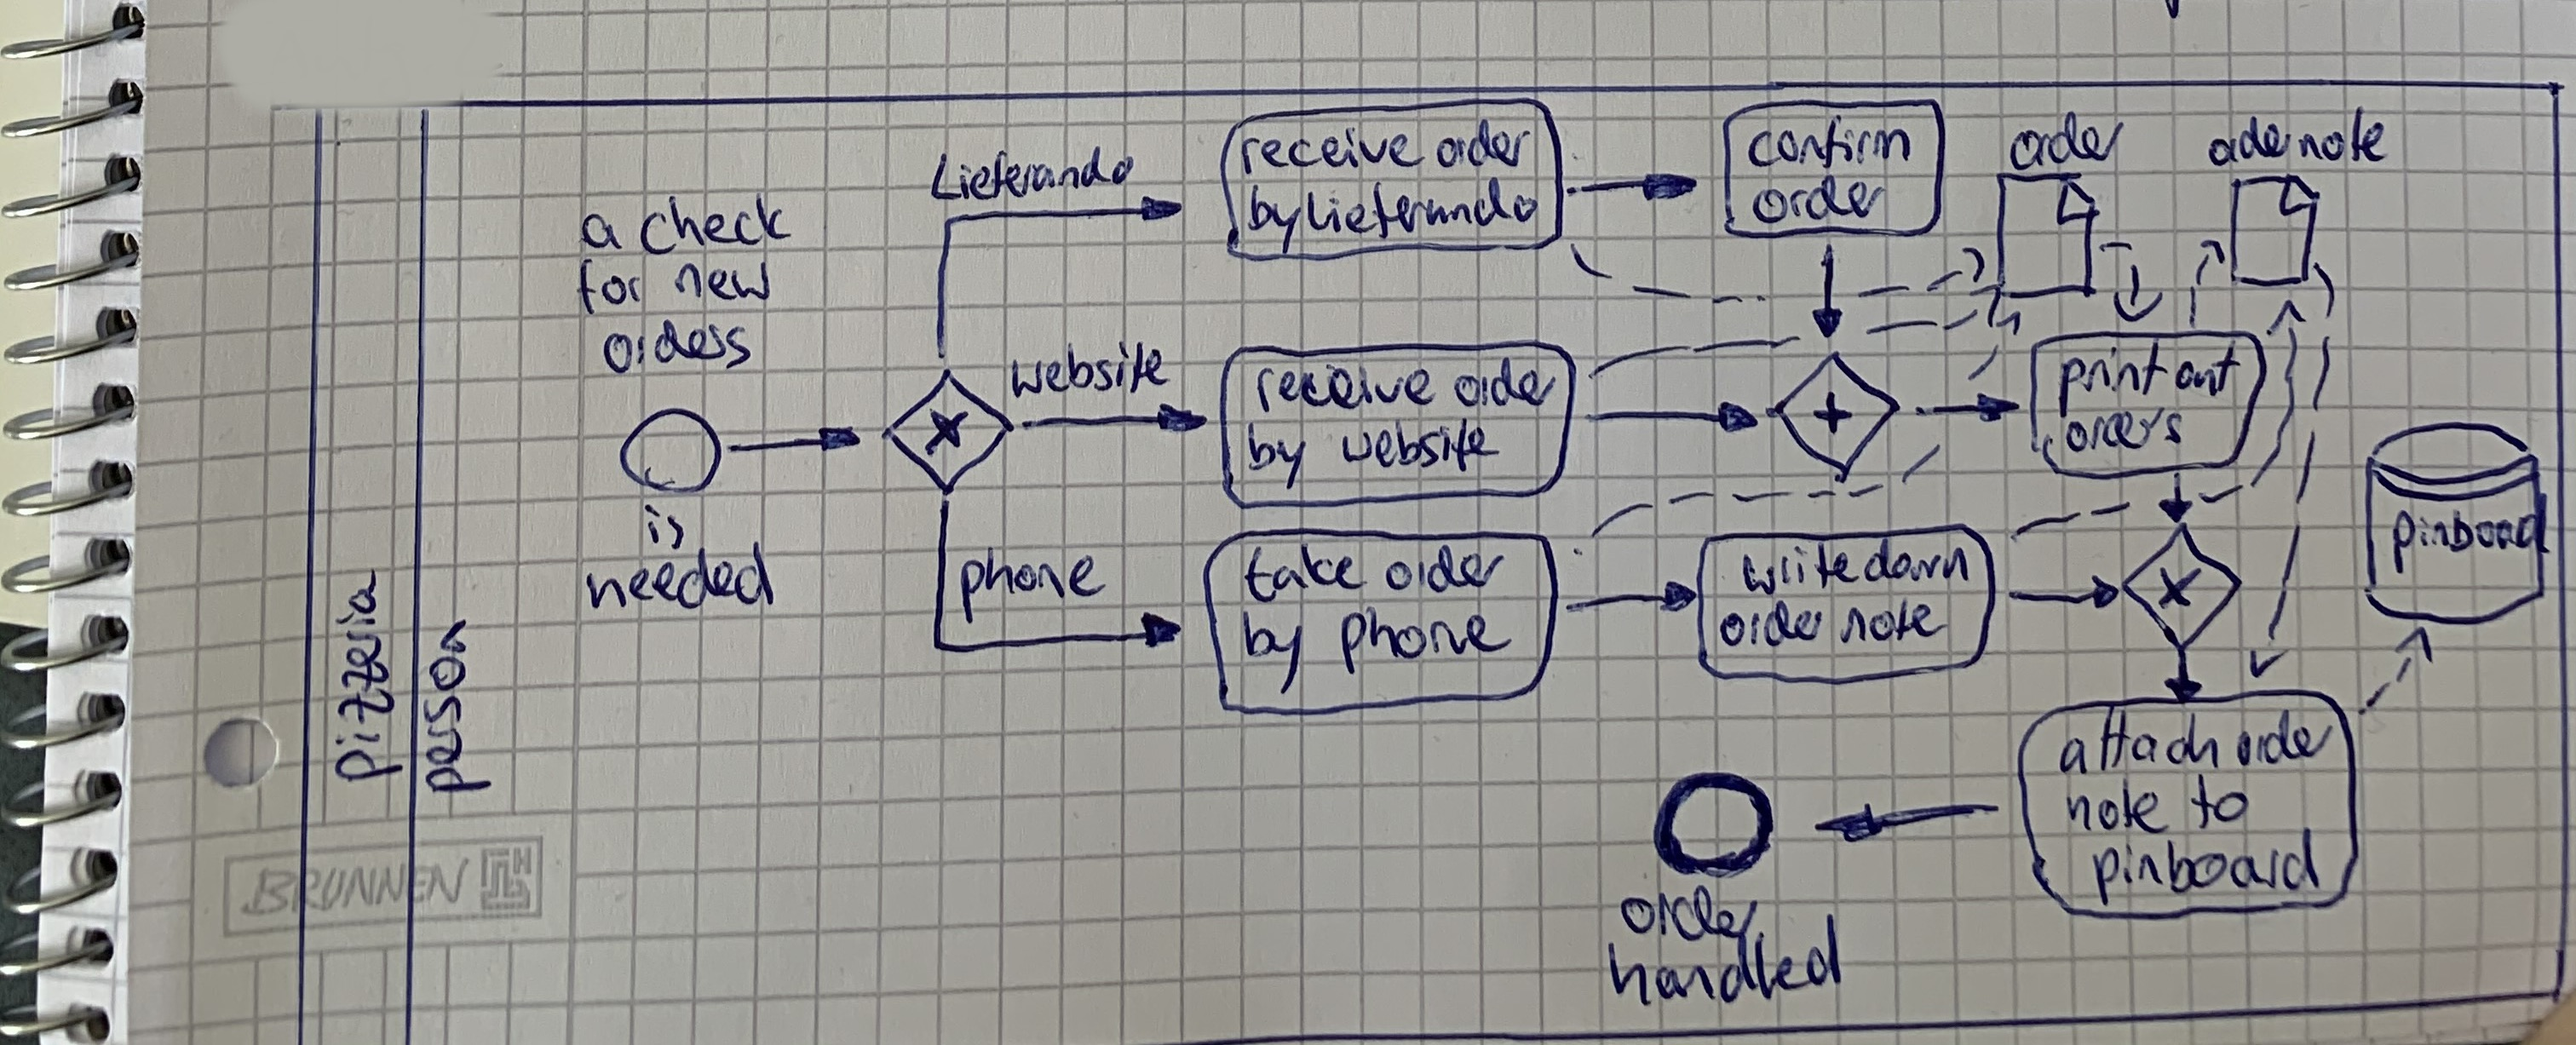Lieferando: (924, 147, 1136, 200)
a: (578, 206, 623, 255)
attach: (2058, 706, 2217, 776)
by: (1238, 609, 1306, 693), (1241, 183, 1305, 253), (1244, 422, 1311, 486)
check: (635, 193, 796, 258)
confirm: (1745, 112, 1912, 169)
down: (1859, 537, 1971, 583)
for: (571, 256, 646, 315)
handled: (1596, 951, 1843, 1036)
is: (639, 502, 688, 552)
lieferando: (1302, 179, 1540, 244)
needed: (583, 555, 770, 622)
new: (667, 261, 772, 303)
note: (2066, 778, 2171, 835), (1836, 596, 1947, 646), (2297, 106, 2390, 164)
order: (2005, 106, 2129, 175), (1615, 884, 1759, 937), (1750, 174, 1890, 225), (2233, 709, 2337, 768), (1452, 353, 1560, 411), (1383, 543, 1504, 594), (1435, 117, 1531, 176), (1717, 600, 1826, 650), (2197, 126, 2288, 181)
orders: (601, 315, 754, 378), (2059, 414, 2185, 462)
out: (2171, 340, 2247, 395)
person: (422, 615, 490, 793)
phone: (1337, 607, 1513, 676), (954, 548, 1109, 623)
pinboard: (2088, 841, 2319, 906), (2386, 491, 2552, 571)
pizzeria: (331, 565, 403, 788)
print: (2050, 342, 2165, 415)
receive: (1252, 361, 1437, 414), (1239, 123, 1423, 175)
take: (1242, 537, 1364, 600)
to: (2187, 776, 2252, 832)
website: (1004, 347, 1170, 411), (1334, 415, 1498, 473)
write: (1738, 539, 1862, 596)
